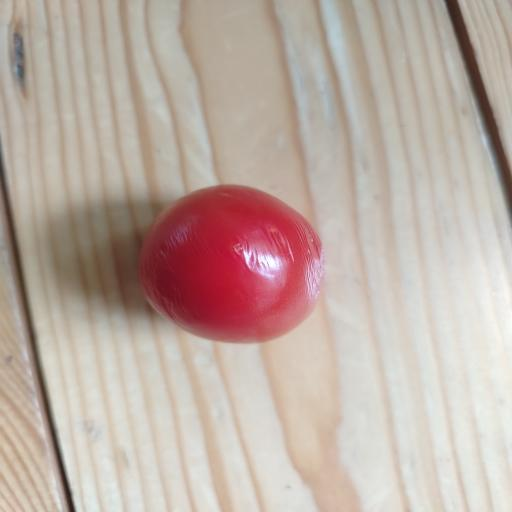spoiled: (140, 185, 324, 342)
